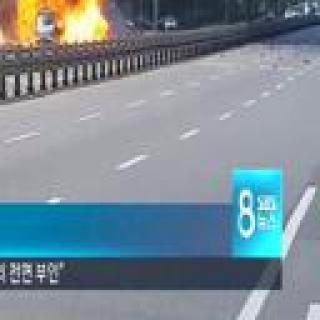fire: (23, 0, 111, 43), (0, 8, 5, 44)
